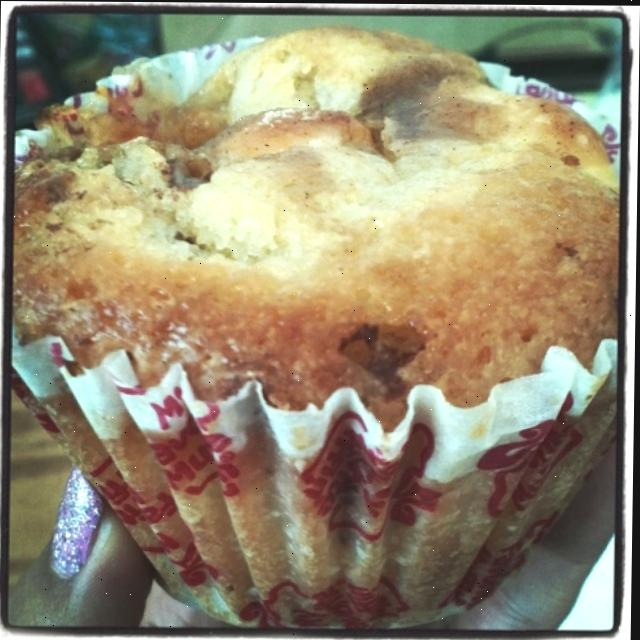炸货点心: (2, 25, 627, 627)
面包点心: (2, 25, 627, 627)
